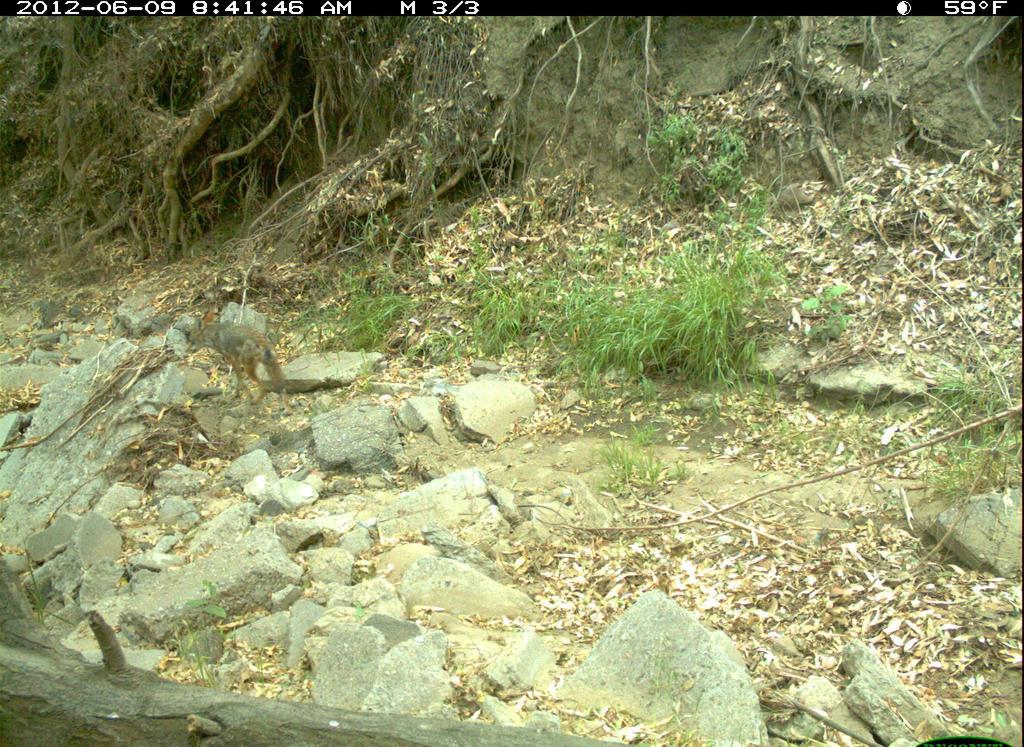coyote: (171, 308, 299, 424)
